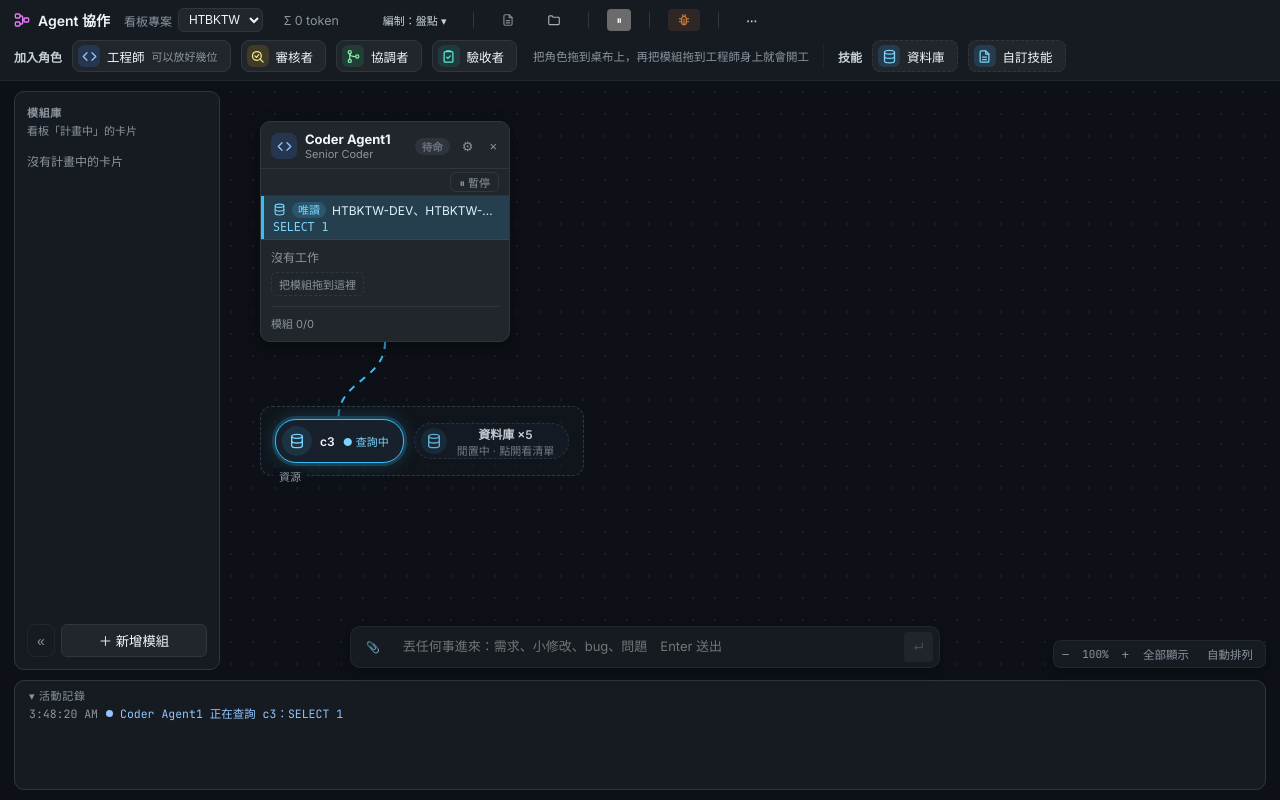
Test case: AgentCanvasView › 資源多於 4 個：閒置的收合成一顆，使用中的單獨顯示；點開看清單
Check: the element with test id "resource-c3" is shown, box x1=275 y1=419 x2=404 y2=463
Click the button "資料庫 ×5 閒置中 · 點開看清單": (492, 441) x1=415 y1=424 x2=568 y2=458
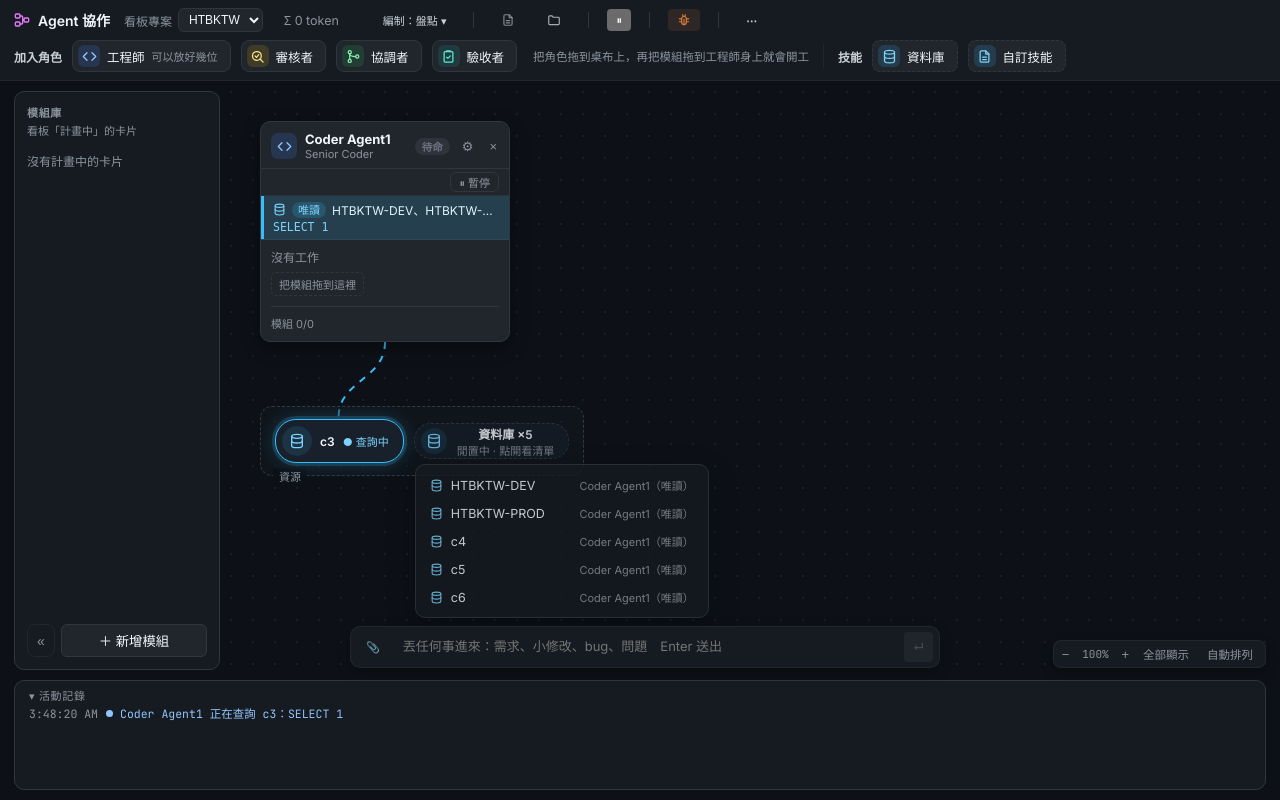
Check: the text "HTBKTW-PROD" is shown, box x1=451 y1=506 x2=545 y2=520
